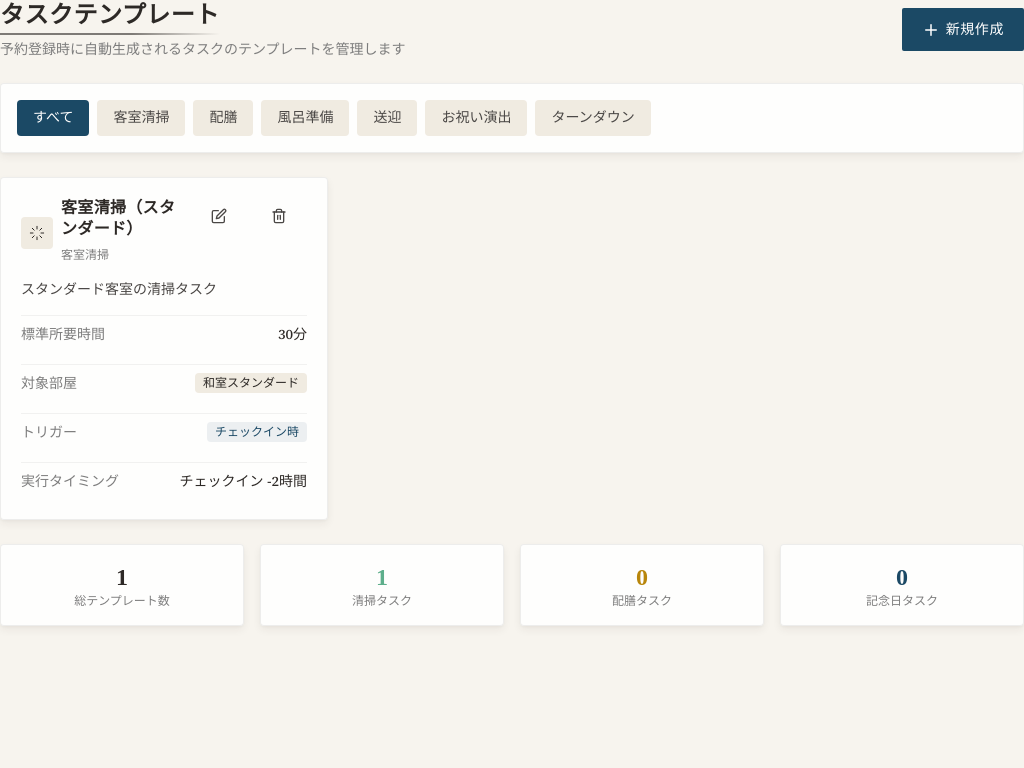
TemplateFormの共通Modal移行 › 新規作成TemplateFormが共通Modalのrole=dialogを持つ
This screenshot has width=1024, height=768.
Click the button "新規作成": (963, 30) [902, 8, 1023, 52]
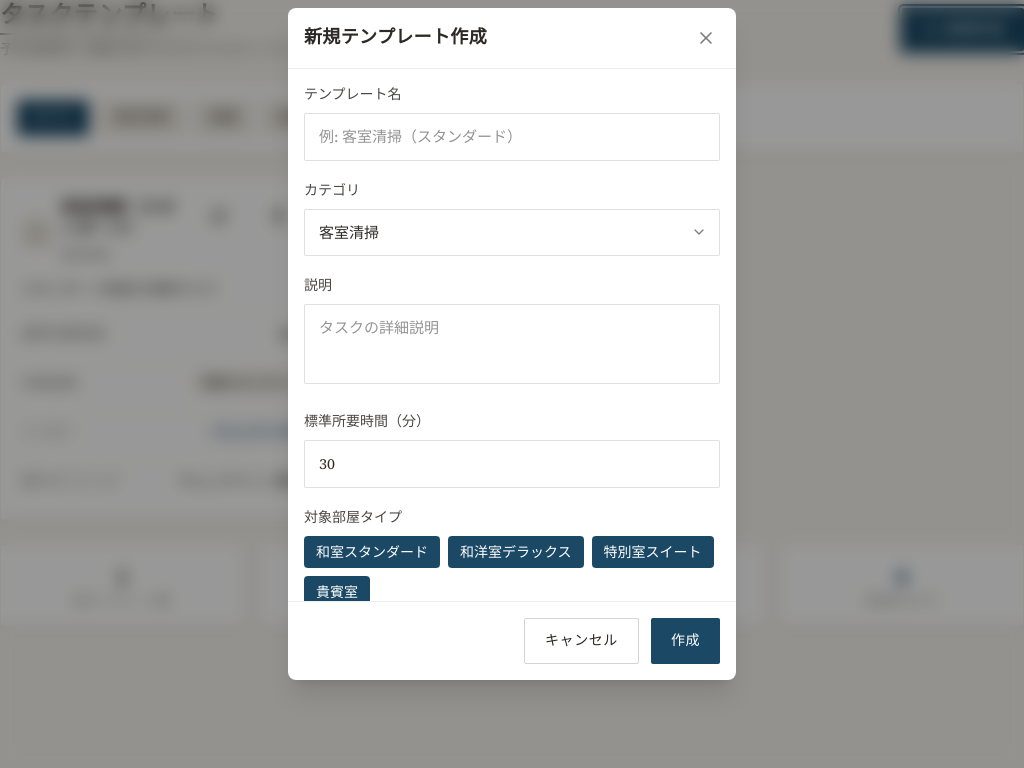
Expected: the dialog is shown, [288, 8, 736, 680]
Expected: the heading "新規テンプレート作成" is shown, [304, 26, 487, 50]
